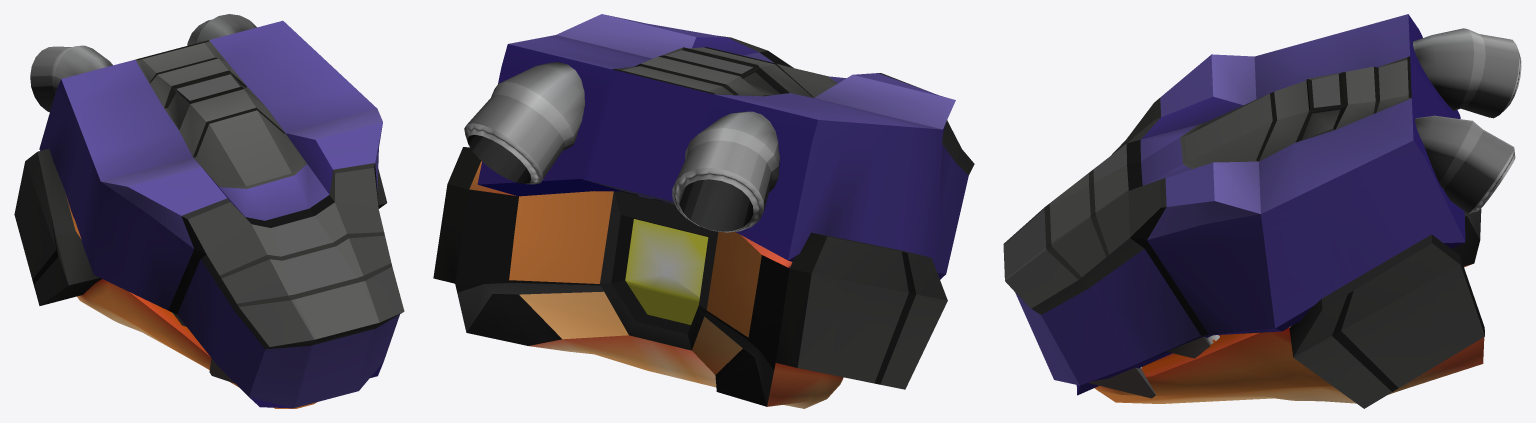
File: kakorex.fbx
3 views of the same model, side by side, from view 1: azimuth 30°, elevation 25°; view 2: azimuth 150°, elevation 25°; view 3: azimuth 270°, elevation 25° (orthographic). The views are drawn at different scales.
Parts seen in each view (by area): view 1: boca, mandibula; view 2: boca, mandibula; view 3: boca, mandibula.
Boxes of the visible parts, x1=… form: boca: x1=30, y1=14, x2=404, y2=408; mandibula: x1=14, y1=148, x2=387, y2=408; boca: x1=464, y1=14, x2=974, y2=279; mandibula: x1=433, y1=147, x2=947, y2=408; boca: x1=1003, y1=14, x2=1521, y2=398; mandibula: x1=1094, y1=208, x2=1484, y2=408.
Bounding box in the file's own units: 114 × 89.95 × 135.
